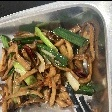chashugu: (0, 17, 100, 112)
